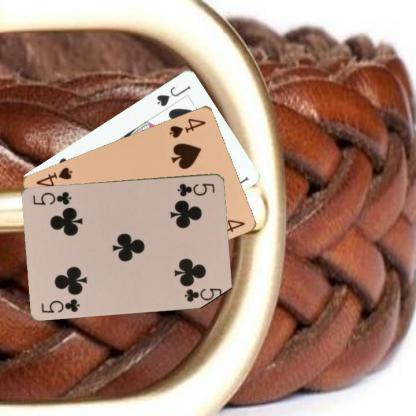4s: (166, 115, 208, 139)
5c: (38, 296, 81, 314), (175, 180, 216, 198)
Js: (154, 82, 192, 108)
